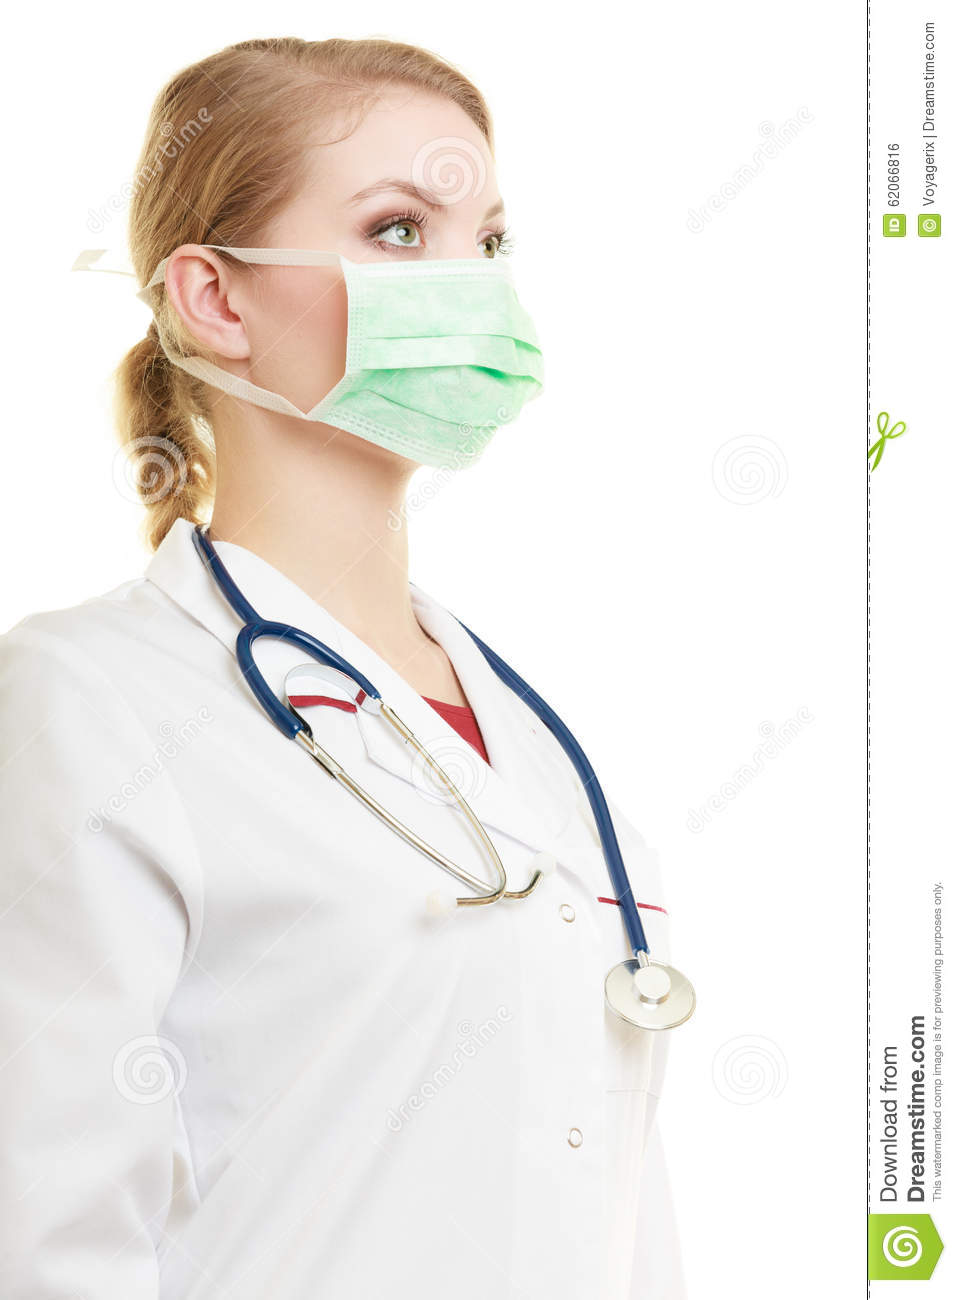mask: (310, 247, 558, 463)
